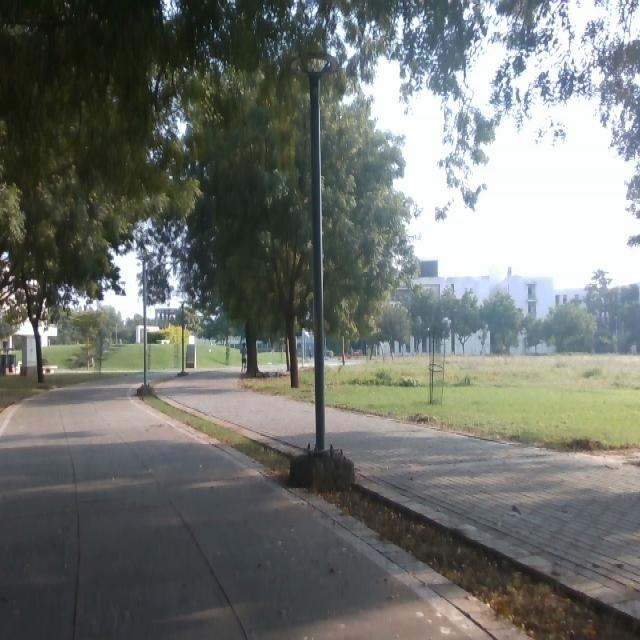lane: (0, 375, 473, 640)
